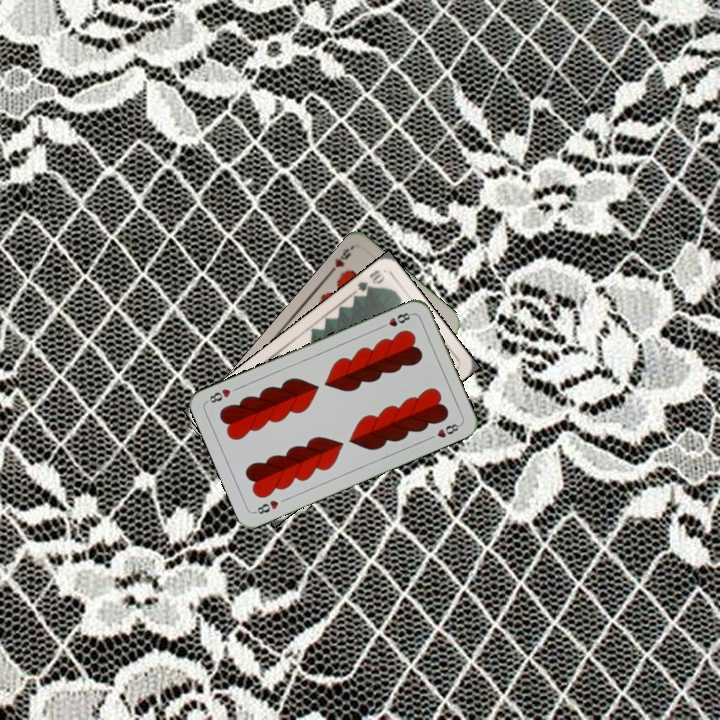G10: (350, 266, 387, 300)
H8: (376, 308, 415, 331), (250, 496, 281, 517)
H9: (325, 243, 356, 277)
